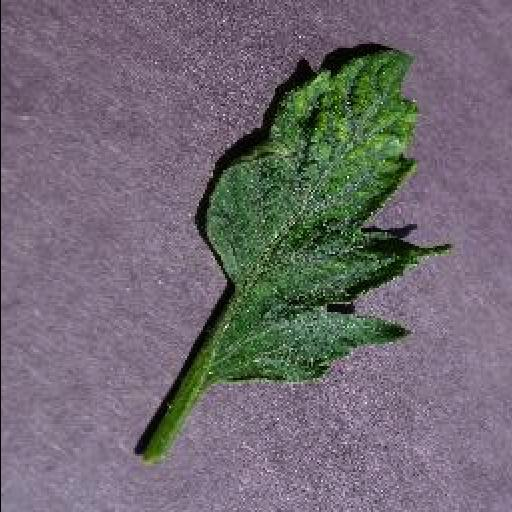disease_tomato: (196, 42, 456, 388)
